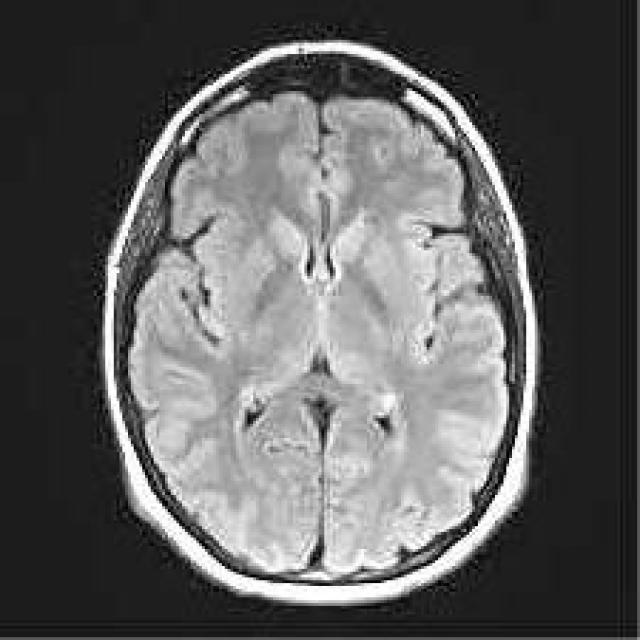notumor: (100, 40, 543, 609)
